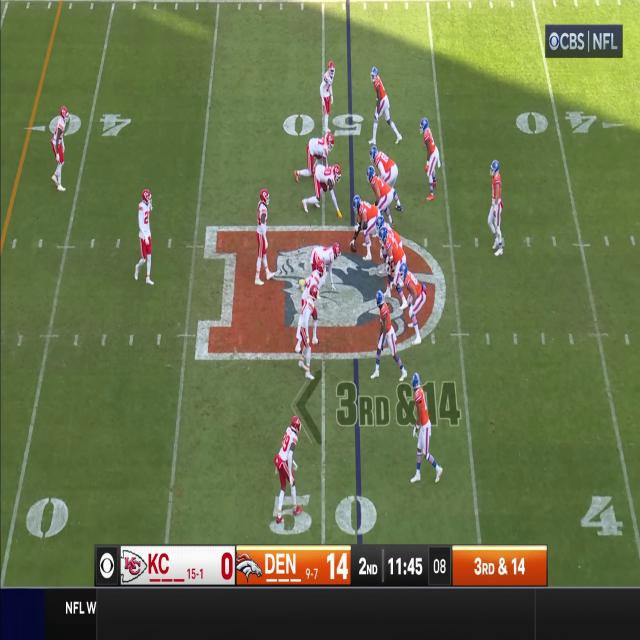Player: (275, 412, 302, 524), (410, 372, 435, 485), (370, 289, 397, 380), (296, 286, 320, 381), (369, 66, 395, 146), (400, 264, 426, 342), (134, 189, 154, 286), (419, 118, 440, 201), (487, 160, 504, 256), (50, 108, 69, 193), (353, 196, 378, 260), (255, 188, 271, 287), (378, 228, 401, 290), (318, 60, 334, 132), (310, 164, 343, 198), (366, 164, 393, 203), (304, 132, 334, 164), (369, 146, 398, 173), (310, 242, 342, 263), (302, 260, 324, 286)
